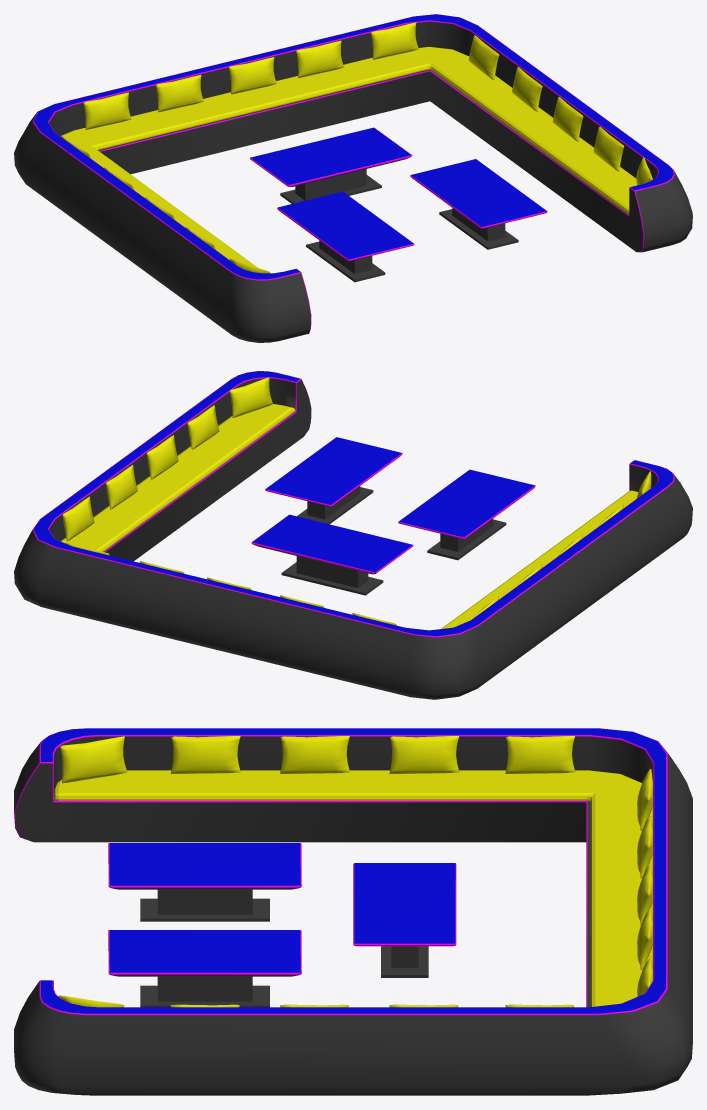
File: New_sofa.fbx
The picture shows the model from 3 angles, top to bottom: view 1: azimuth 30°, elevation 25°; view 2: azimuth 150°, elevation 25°; view 3: azimuth 270°, elevation 25°; orthographic projection. The views are drawn at different scales.
Parts seen in each view (by area): view 1: polySurface17; view 2: polySurface17; view 3: polySurface17.
Part boxes in pixels (box(x1,y1,x2,y2)): polySurface17: box(14, 14, 692, 342); polySurface17: box(14, 371, 692, 699); polySurface17: box(14, 728, 692, 1095).
Bounding box in the file's own units: 821 × 105 × 791.
